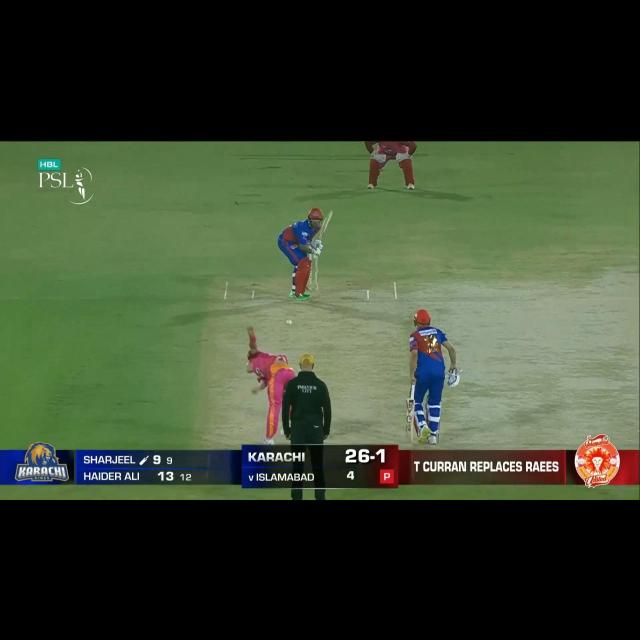bat: (402, 398, 416, 446), (316, 210, 335, 240)
toe: (405, 435, 414, 443), (325, 209, 335, 216)
